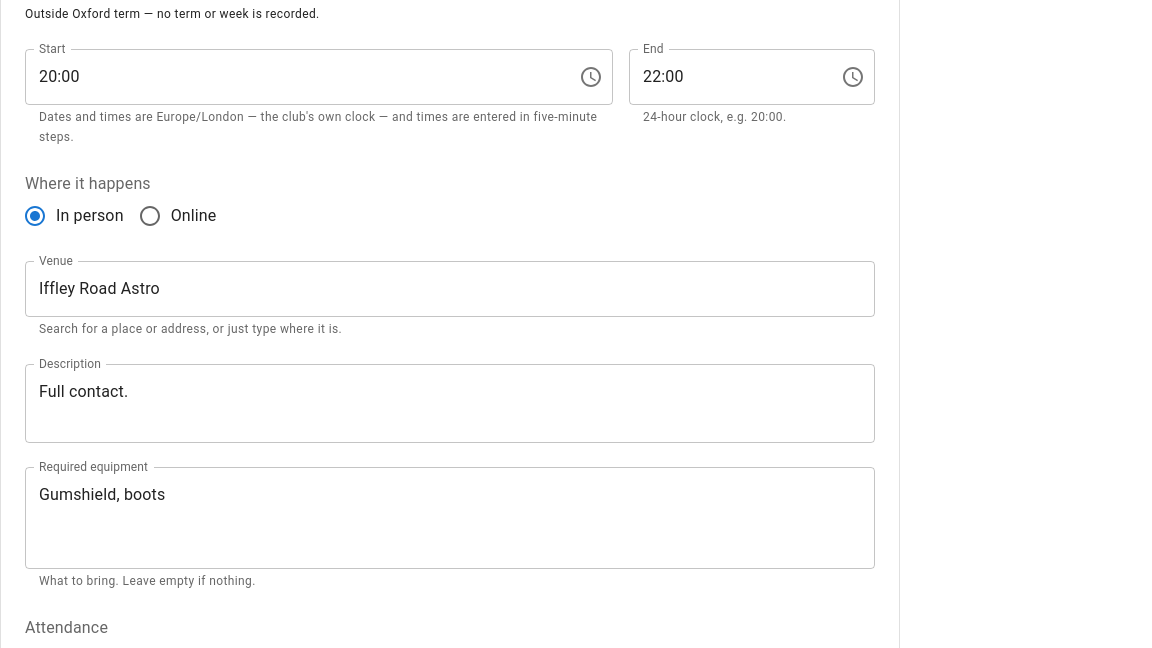
Test: where the one tick starts › is off on a past event even when the venue moved, and explains nothing
(page scrolled)
Replace the text in the dropdown labelled "Venue" with "University Parks" at (435, 289), box [34,270,836,308]
(page scrolled)
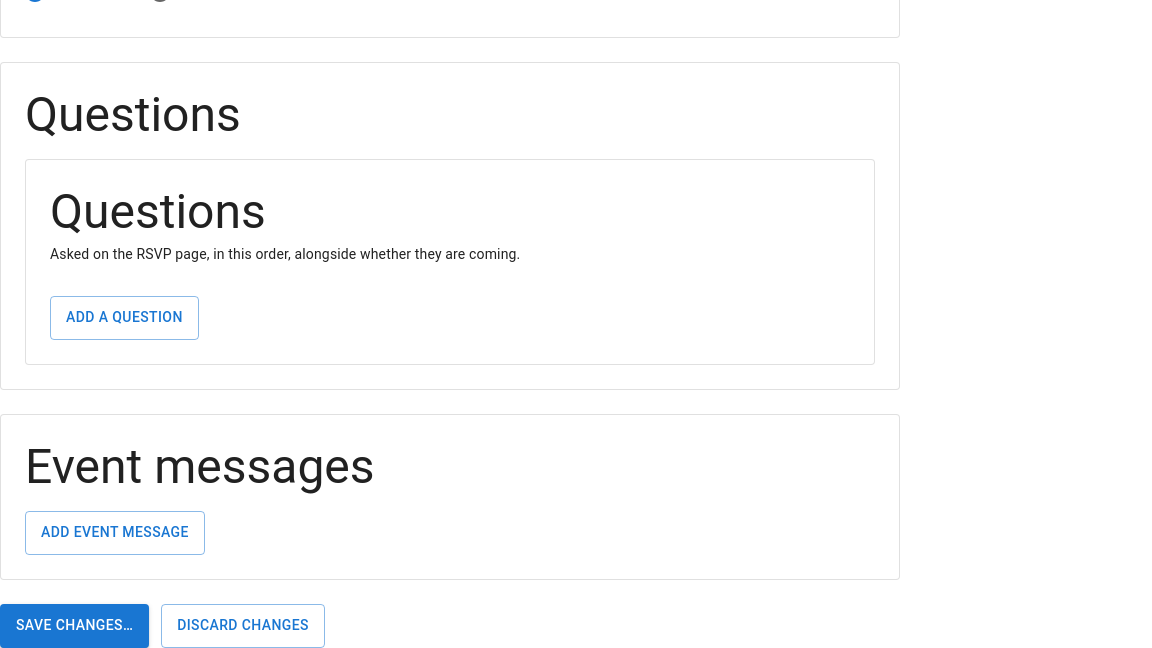
Click the button with test id "continue-to-review" at (75, 626), box [0,604,149,647]
(page scrolled)
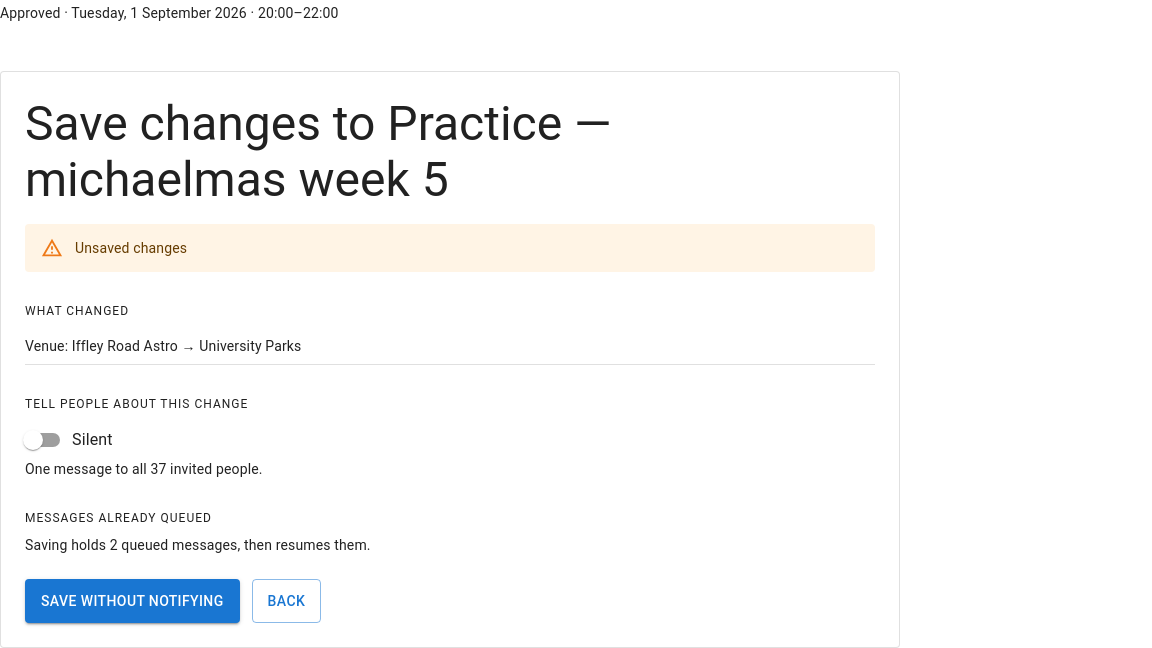
Result: the switch is not checked at [23,430,113,450]
